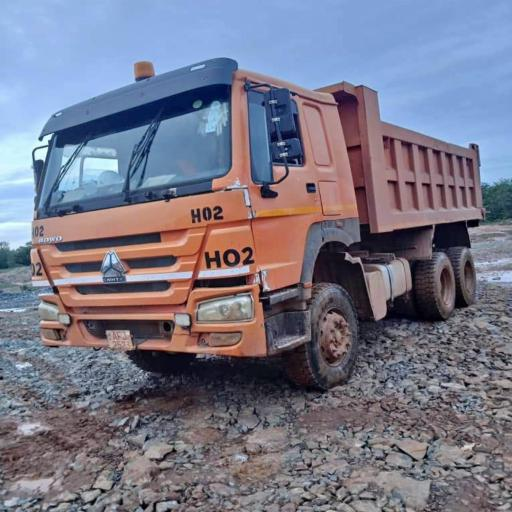number-plates: (103, 326, 136, 352)
